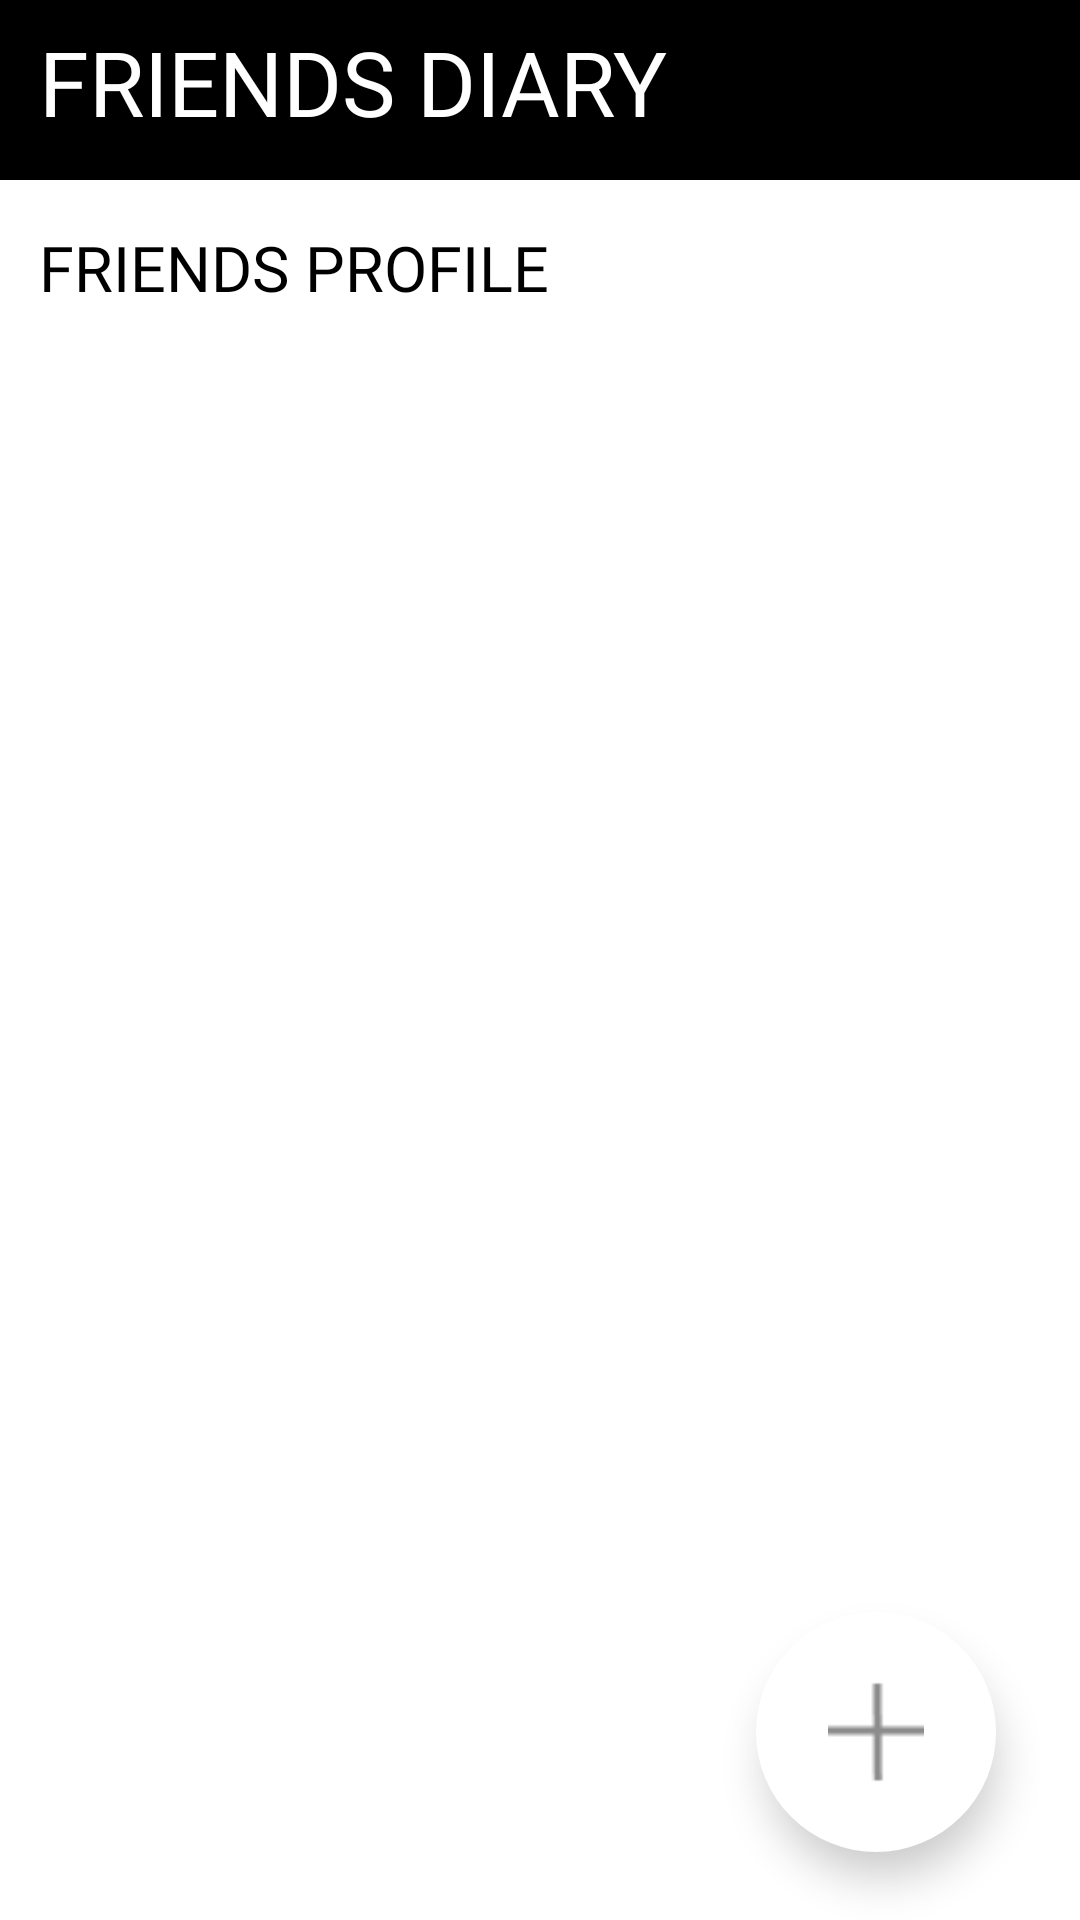

Point at icon controls on the screen. Image size 1080w x 1920h, points as [x,y].
plus: [885,1767]
